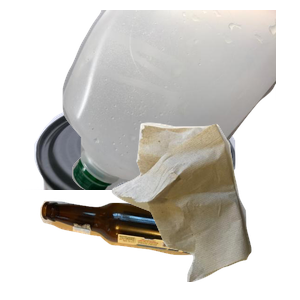glass: (37, 198, 236, 300)
metal: (16, 96, 244, 276)
plastic: (60, 10, 300, 190)
trash: (109, 120, 300, 300)
